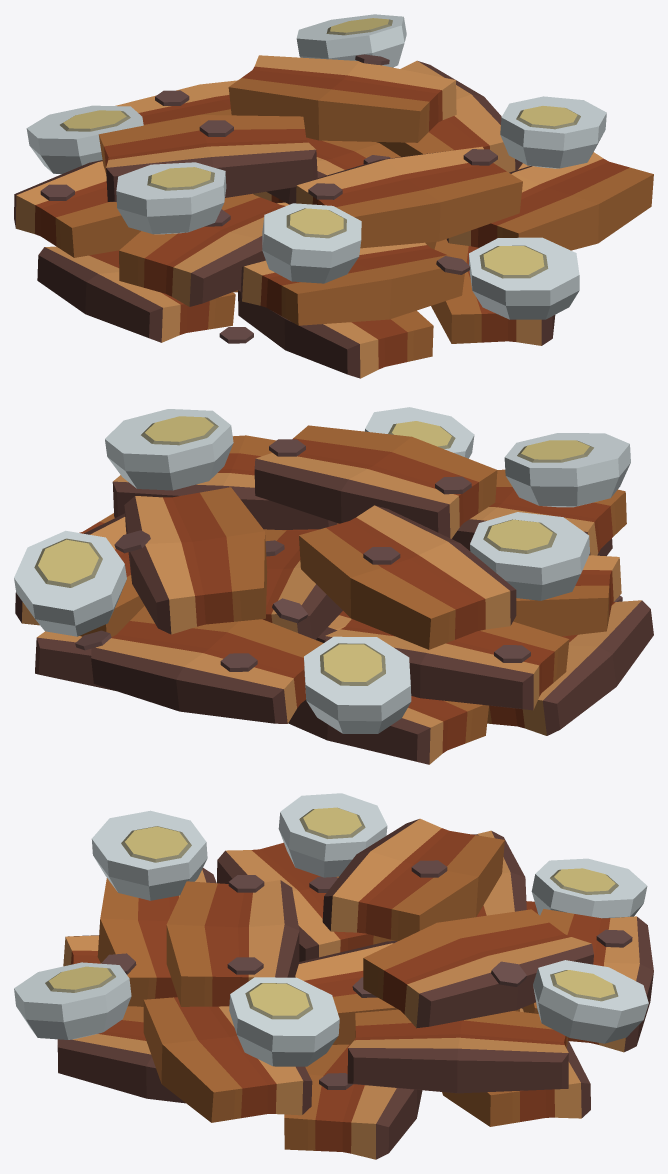
Rendered from Adobo sa pula.fbx.
3 views of the same model, one above another, from view 1: azimuth 30°, elevation 25°; view 2: azimuth 150°, elevation 25°; view 3: azimuth 270°, elevation 25° (orthographic). The views are drawn at different scales.
Visible parts, largest first — view 1: Adobo sa Pula; view 2: Adobo sa Pula; view 3: Adobo sa Pula.
Boxes of the visible parts, bbox=[...] form: Adobo sa Pula: bbox=[14, 14, 653, 378]; Adobo sa Pula: bbox=[14, 407, 653, 764]; Adobo sa Pula: bbox=[14, 793, 653, 1159].
Bounding box in the file's own units: 85.94 × 22.57 × 89.7.
